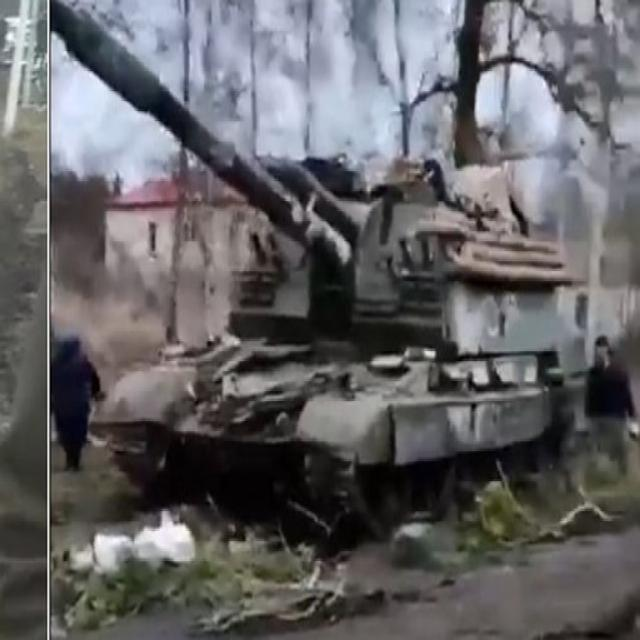ART: (50, 0, 570, 547)
